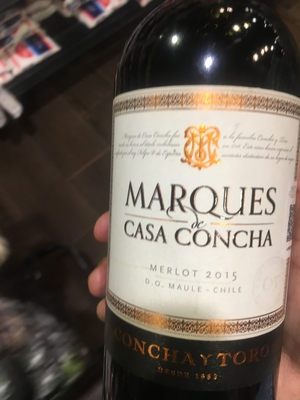marques de casa concha merlot: (99, 23, 300, 394)
